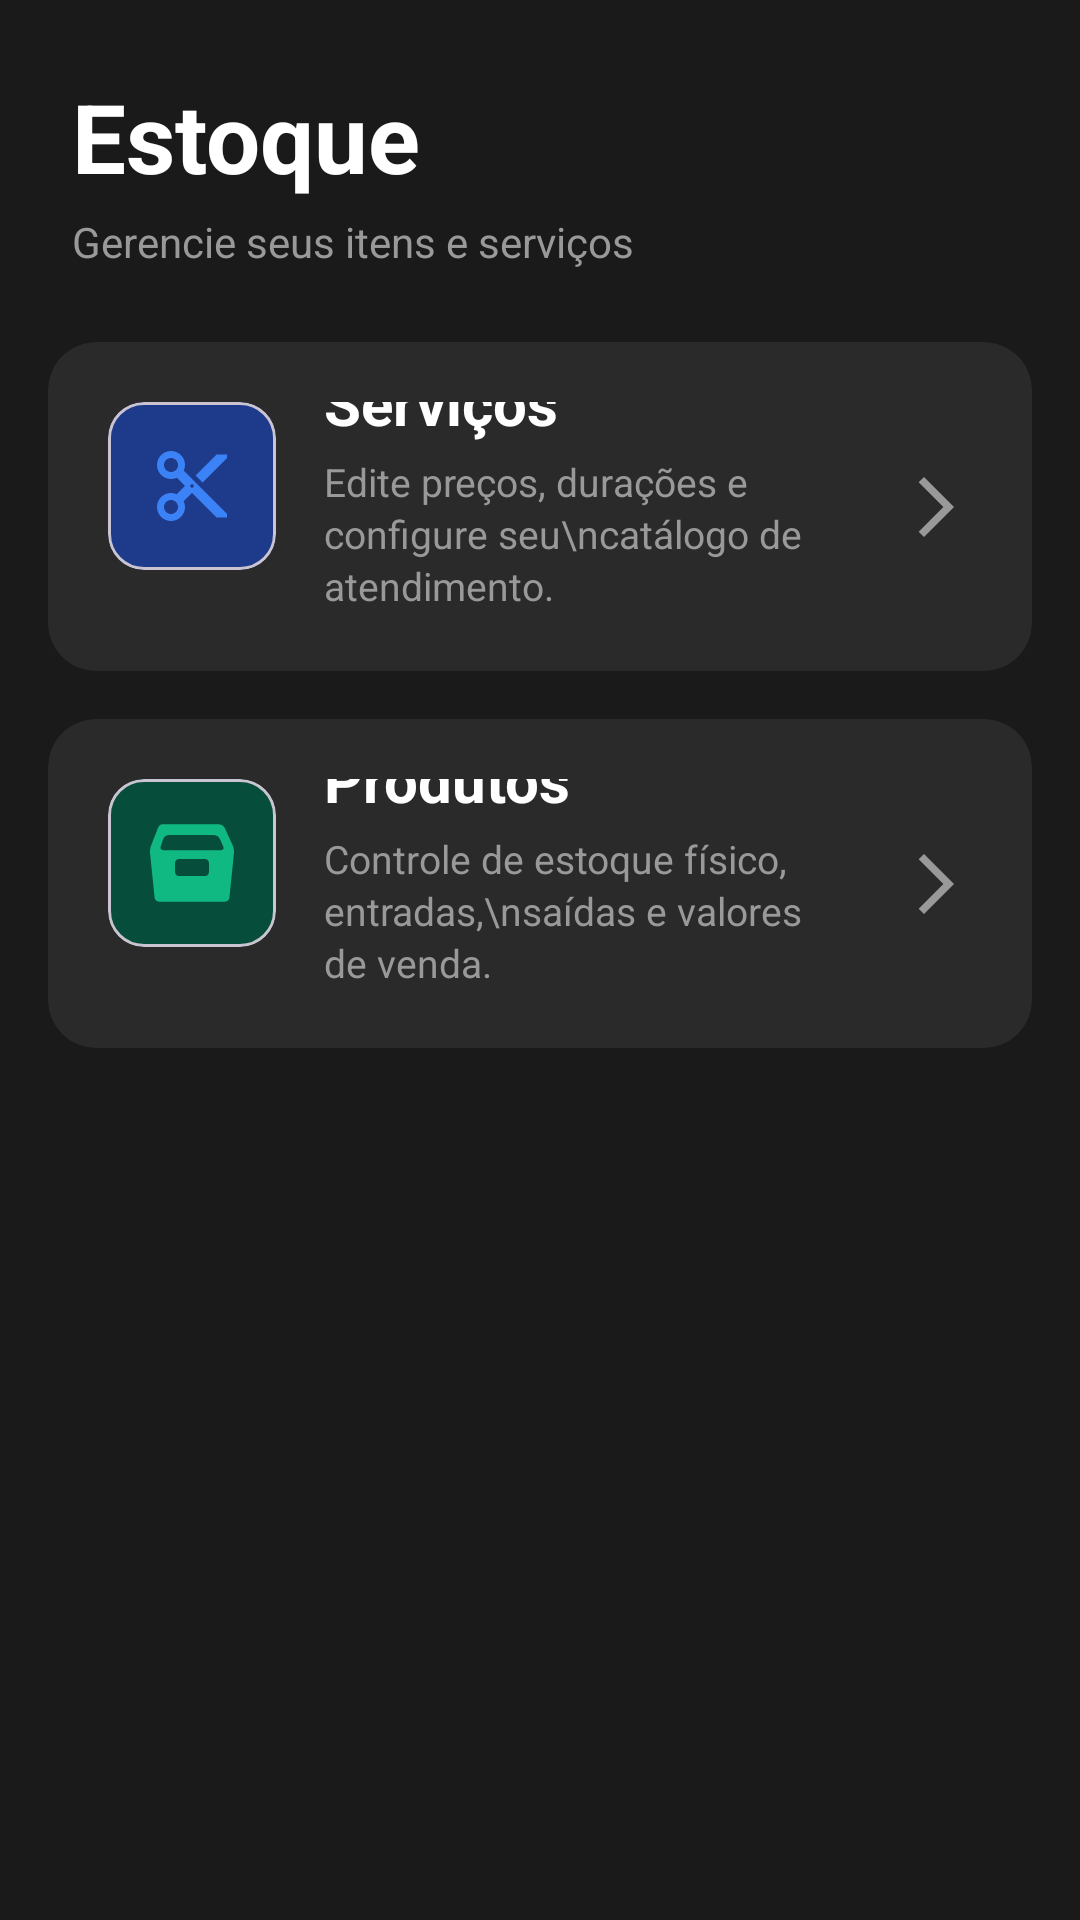

Where icons sit on this 1080w x 1920h app screen, as {"x1": x1, "y1": y1, "x2": x2, "y2": y2}:
arrow forward: {"x1": 919, "y1": 477, "x2": 954, "y2": 537}, {"x1": 919, "y1": 854, "x2": 954, "y2": 914}
scissors: {"x1": 157, "y1": 451, "x2": 227, "y2": 521}
stock: {"x1": 150, "y1": 824, "x2": 234, "y2": 902}
